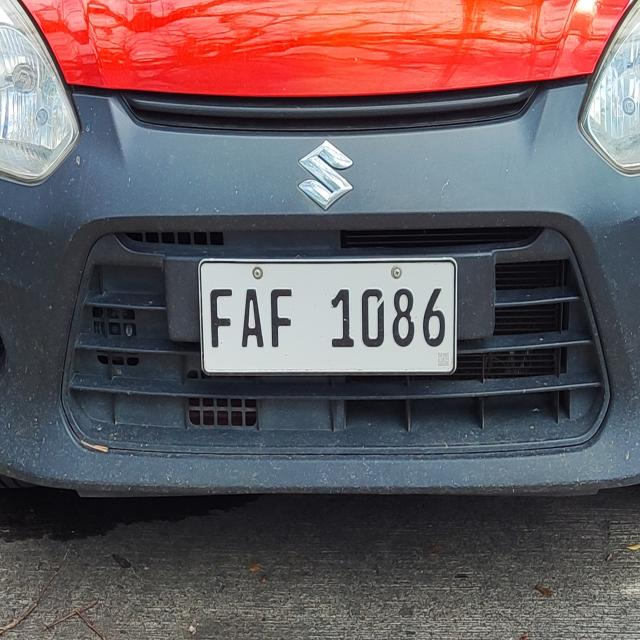plate: (197, 256, 459, 377)
